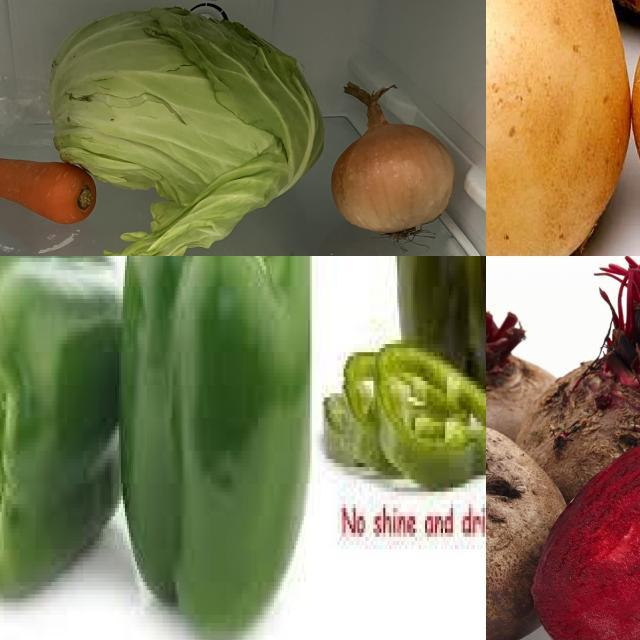beet: (541, 257, 640, 554), (541, 441, 640, 640), (487, 424, 553, 640), (487, 304, 571, 454)
bell_pepper: (101, 257, 316, 640), (1, 257, 123, 624)
cabbage: (45, 4, 326, 257)
carrot: (1, 143, 101, 230)
onion: (329, 82, 460, 252)
potato: (487, 1, 630, 257)
